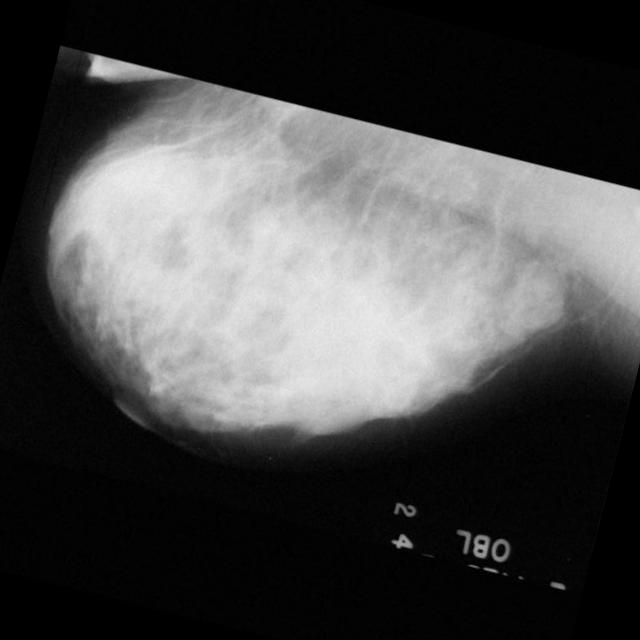CALC: (457, 246, 518, 306)
